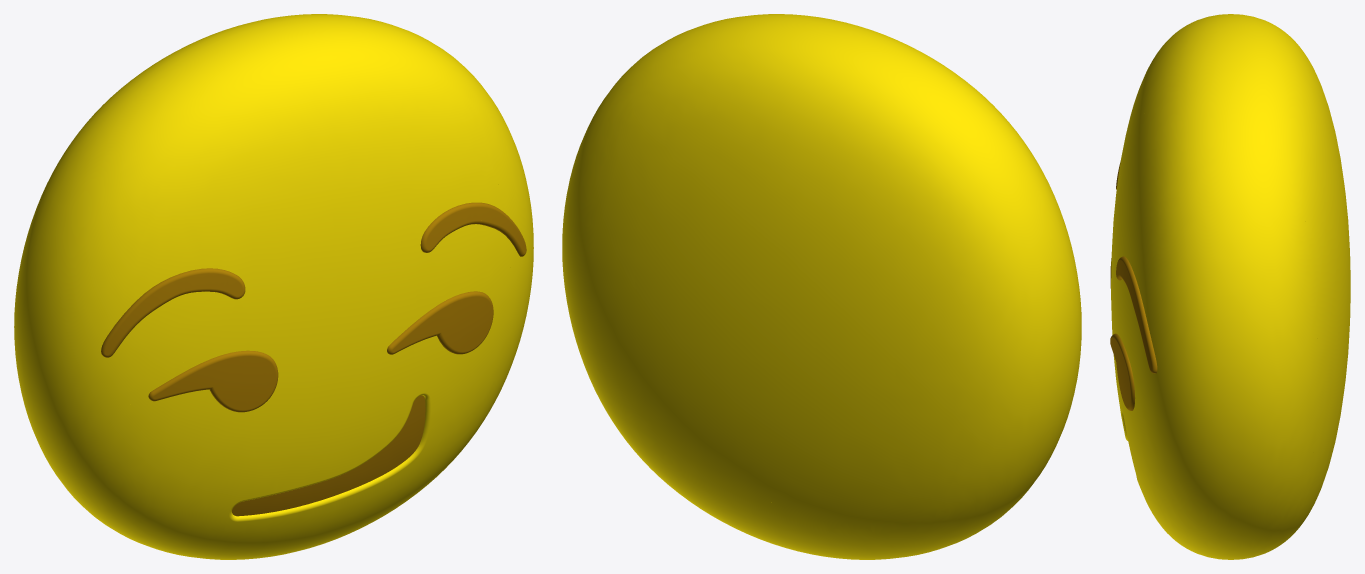
3 renders of one model, left to right at view 1: azimuth 30°, elevation 25°; view 2: azimuth 150°, elevation 25°; view 3: azimuth 270°, elevation 25°, orthographic. The views are drawn at different scales.
Visible parts, largest first — view 1: 009_SmileEmoji9; view 2: 009_SmileEmoji9; view 3: 009_SmileEmoji9.
Part boxes in pixels (left/top/right/bottom): 009_SmileEmoji9: left=14, top=14, right=533, bottom=559; 009_SmileEmoji9: left=562, top=14, right=1081, bottom=559; 009_SmileEmoji9: left=1110, top=14, right=1350, bottom=559.
Bounding box in the file's own units: 0.1561 × 0.1561 × 0.0698.
